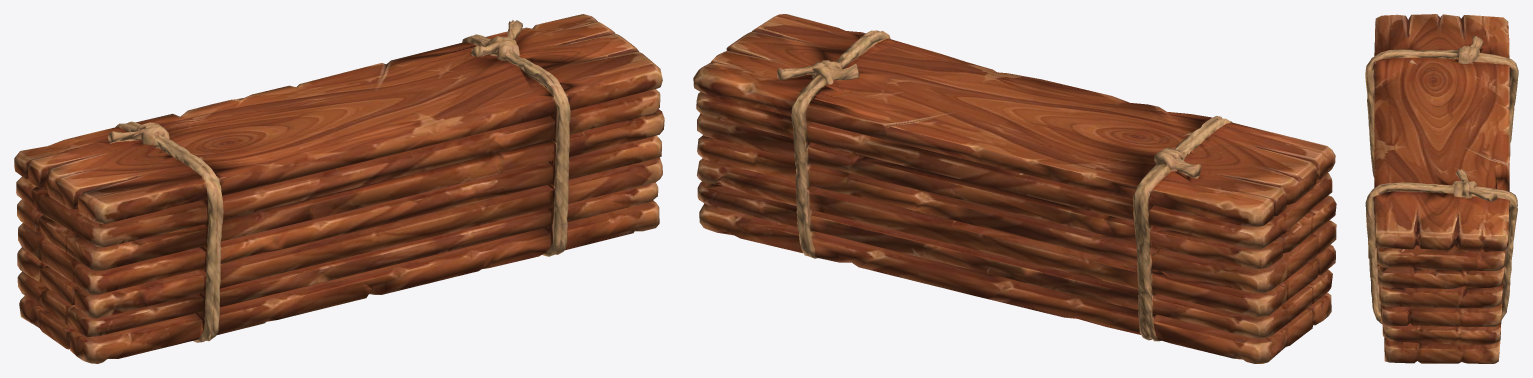
Rendered from d_floorboards.glb.
3 renders of one model, left to right at view 1: azimuth 30°, elevation 25°; view 2: azimuth 150°, elevation 25°; view 3: azimuth 270°, elevation 25°, orthographic. The views are drawn at different scales.
Size of the model in its own units: 1.9 by 0.5912 by 0.5506.
1 material, 1 textured.
